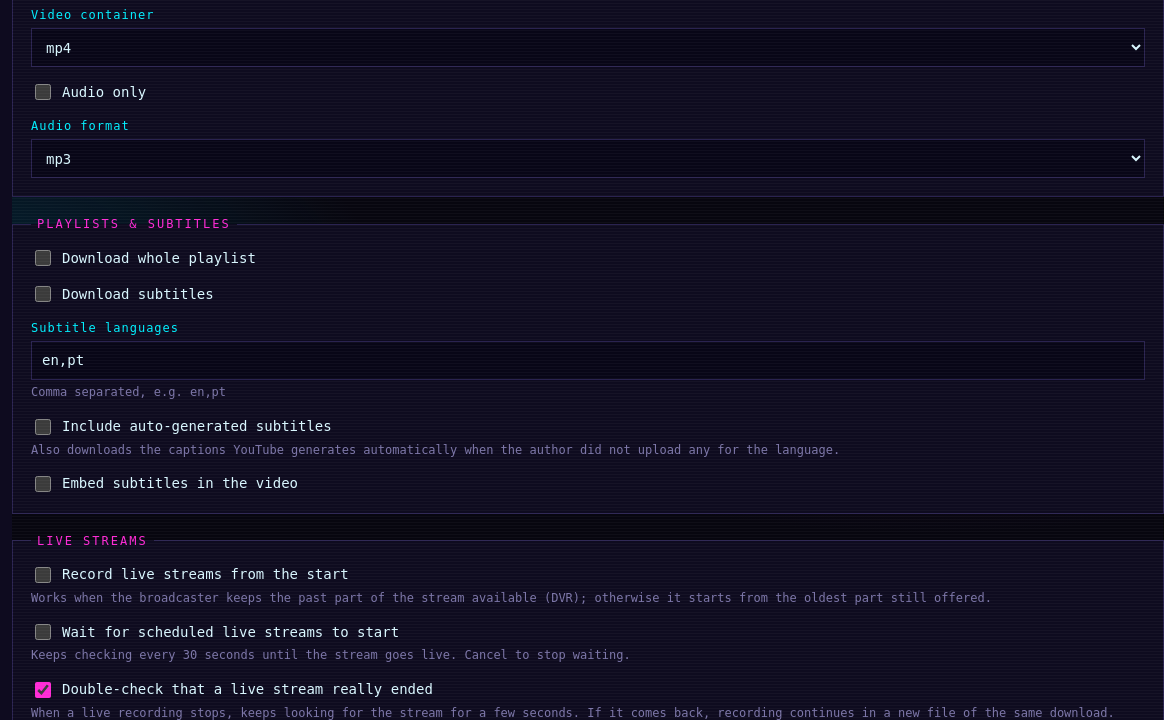
SettingsPanel auto-save of text and number fields (2 s after typing) › saves "Subtitle languages" only after the delay
(page scrolled)
Replace the text in the field labelled "Subtitle languages" with "fr": (588, 361) [31,341,1145,380]
Wait 2000 ms
(page scrolled)
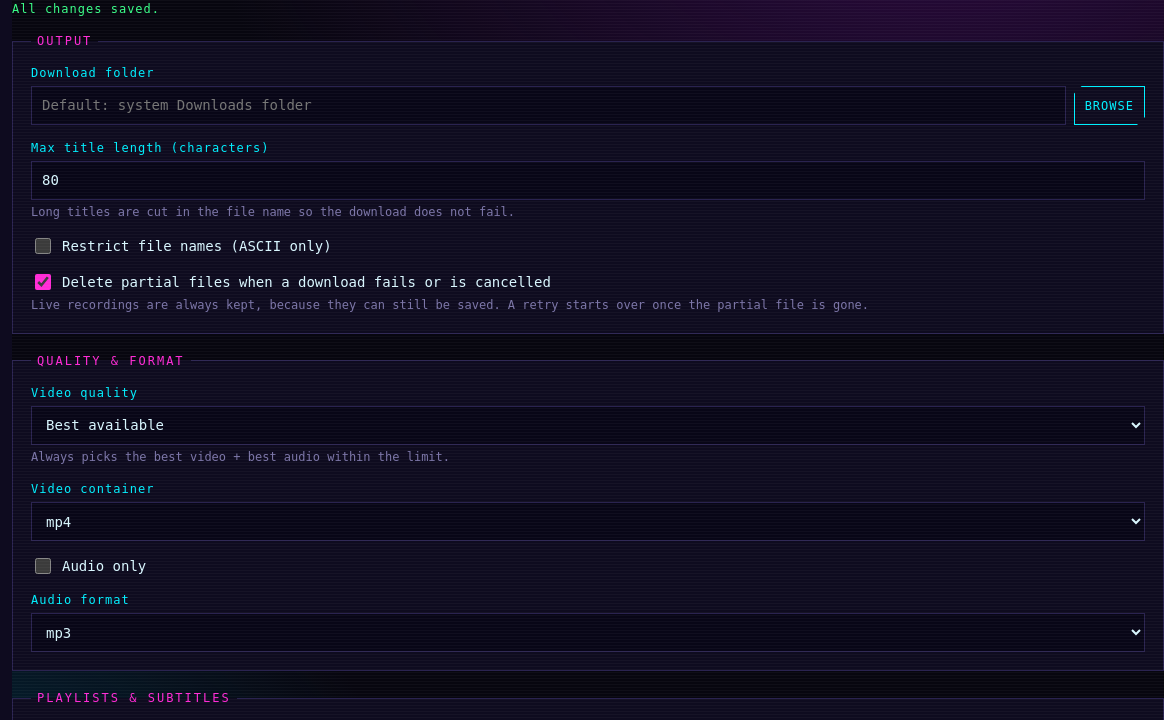
Check: the text "All changes saved." is shown, box [12,2,160,16]
